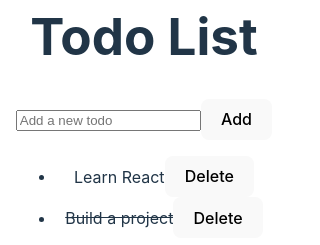
TodoList Component › allows users to delete a todo
Step 1. Click the button "Delete" next to "Learn React" → point(209, 176), box 165,156 -> 254,197
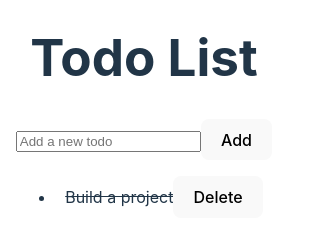
Check: the text "Learn React" is gone
